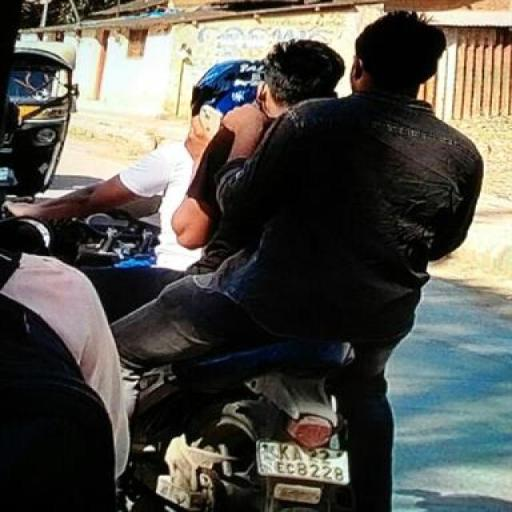tripple riding: (51, 8, 487, 361)
